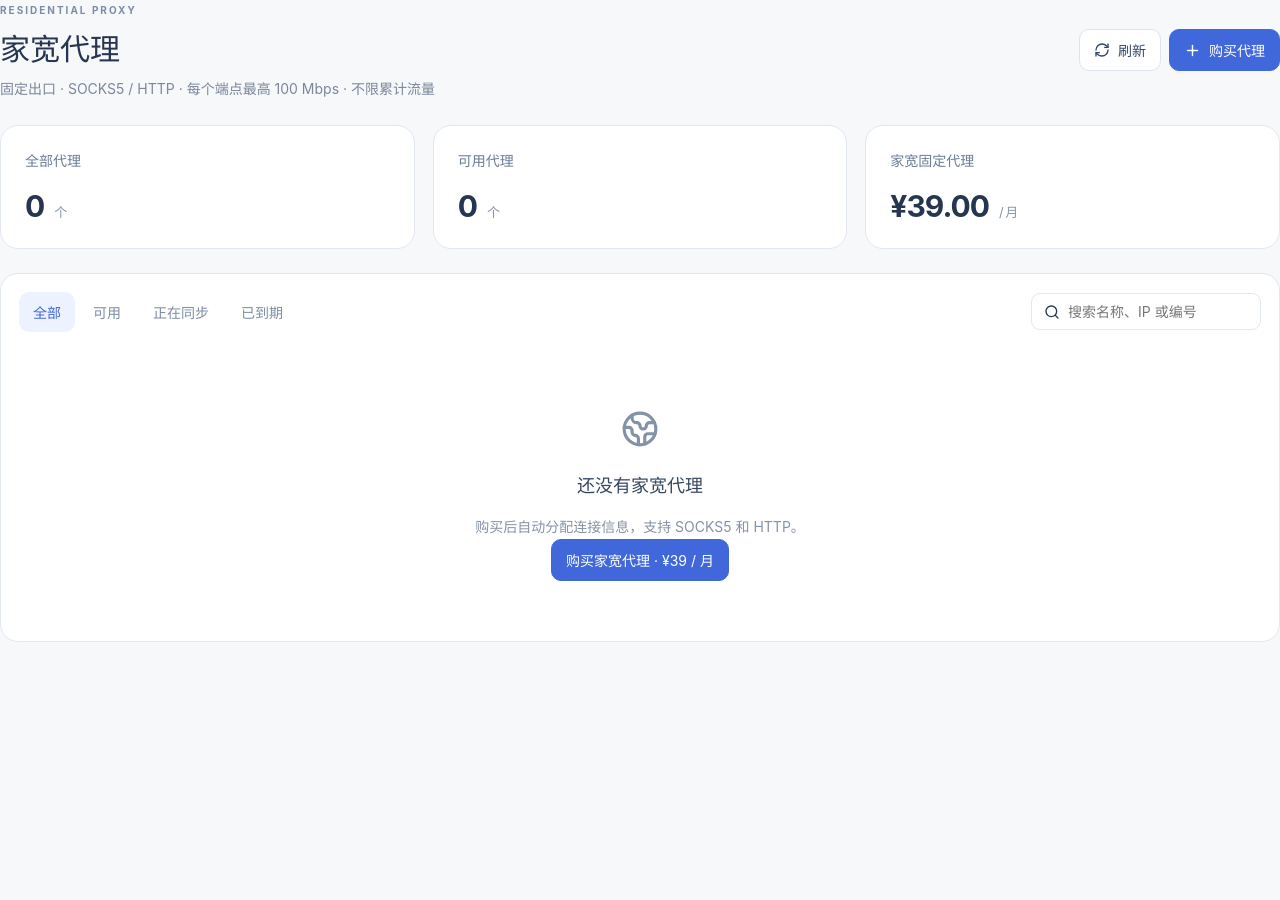
Test: shows real empty inventory and confirms before submitting a purchase
Expected: the heading "还没有家宽代理" is shown, [577,475,703,496]
Step 1. Click the button "购买代理" → click(1224, 50), box [1169,29,1279,71]
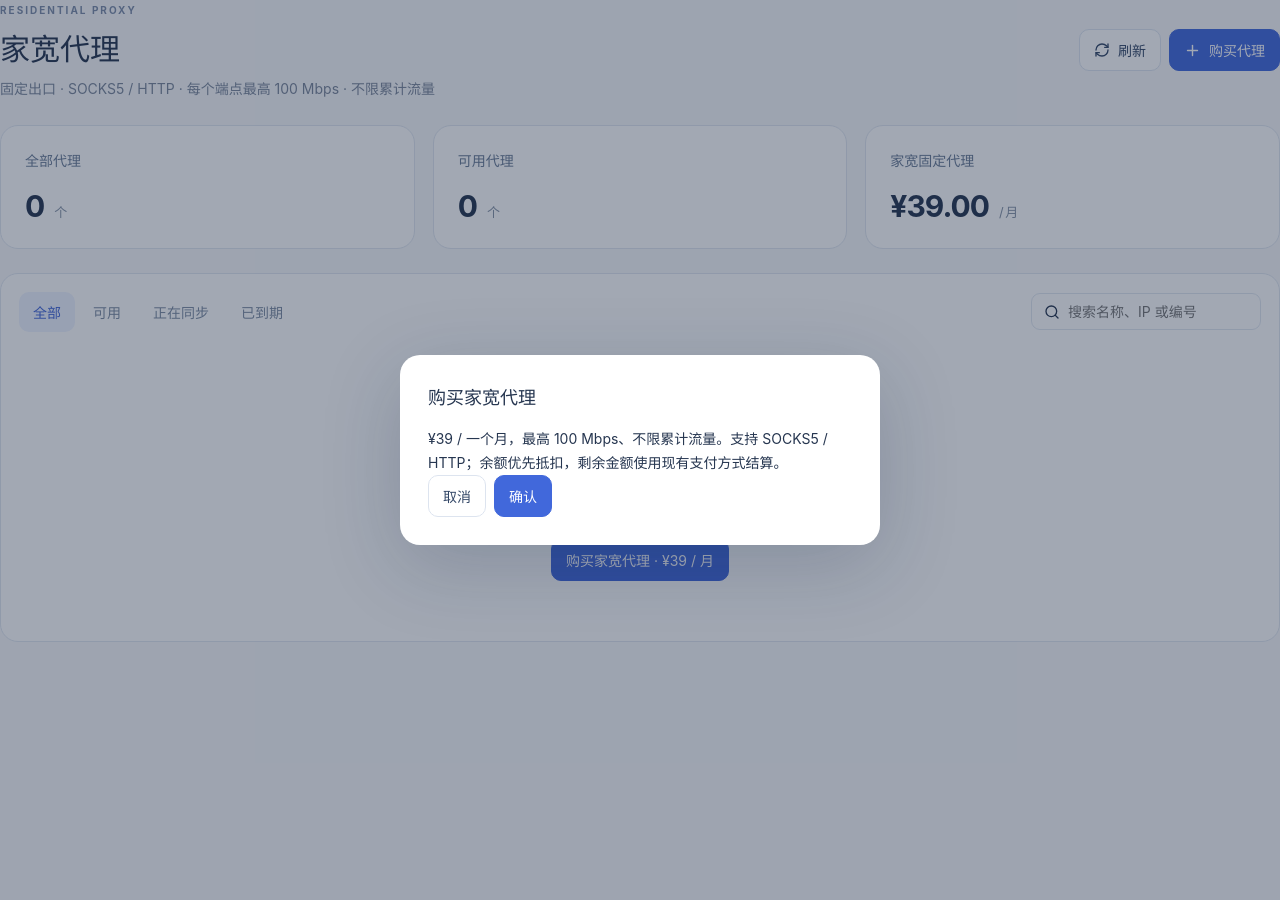
Step 2. Click the button "确认" → click(523, 496), box [494,475,552,517]
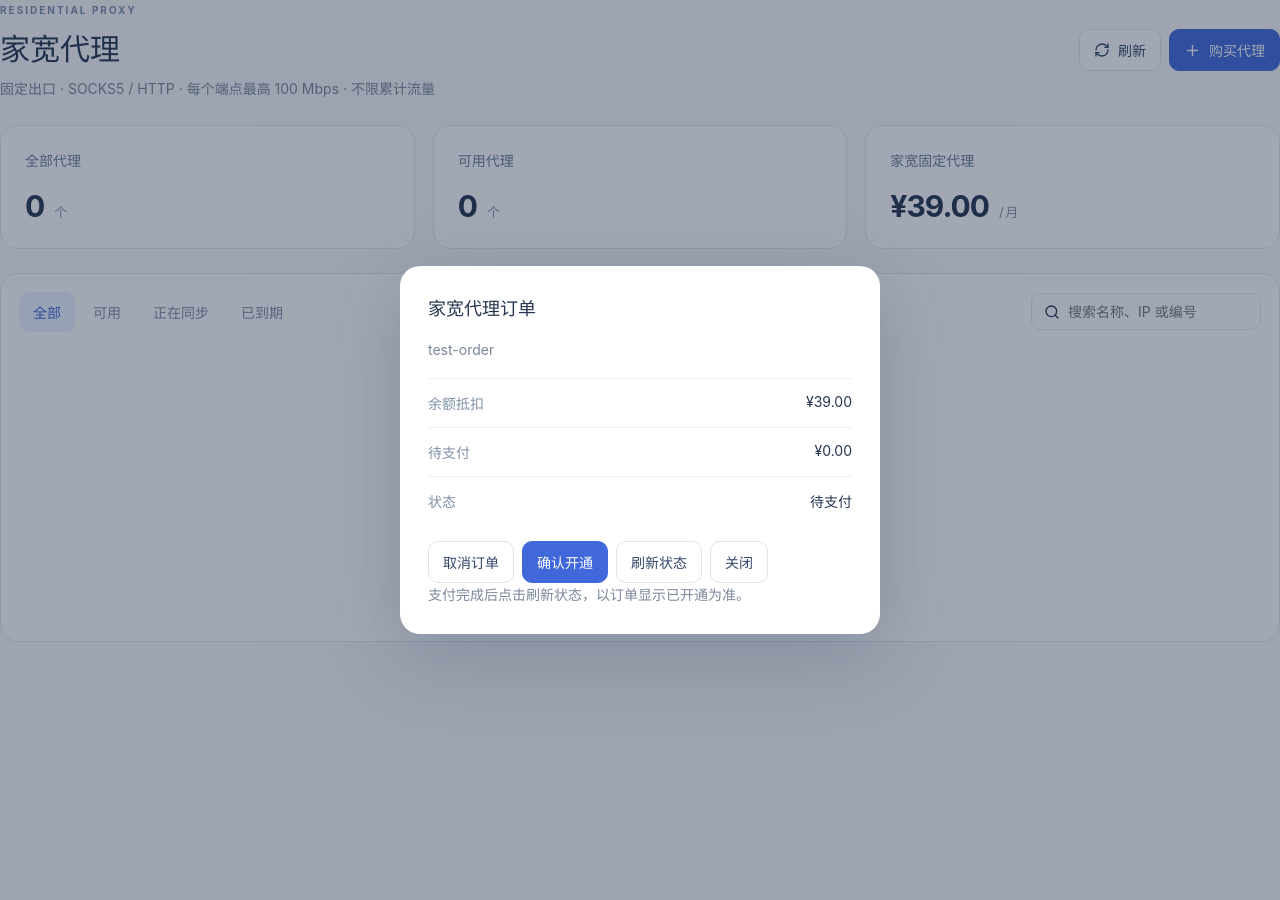
Now the dialog "代理订单" is shown, box [400,266,880,634]
Now the button "确认开通" is shown, box [522,540,608,582]
